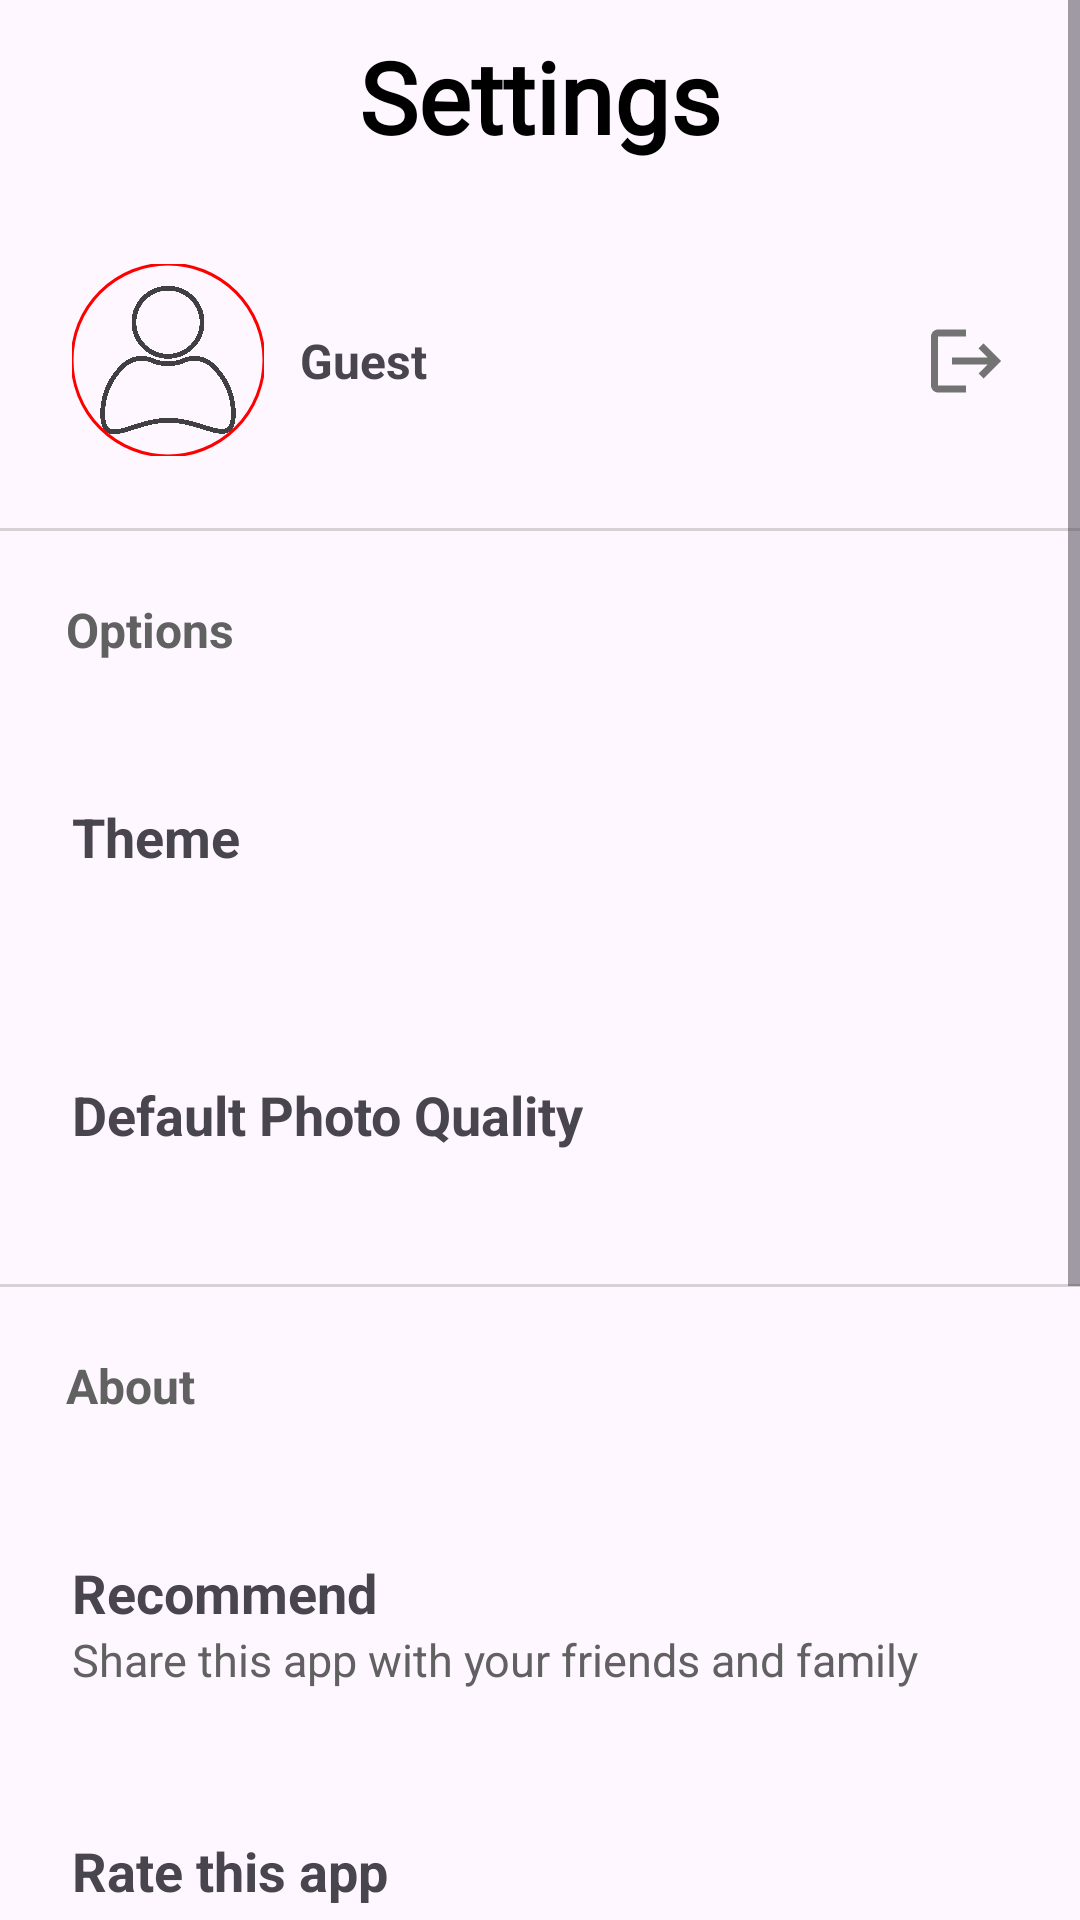

Where to tap for icons on this 1080 × 1920 app screen, as [x,y]:
person: [168,360]
